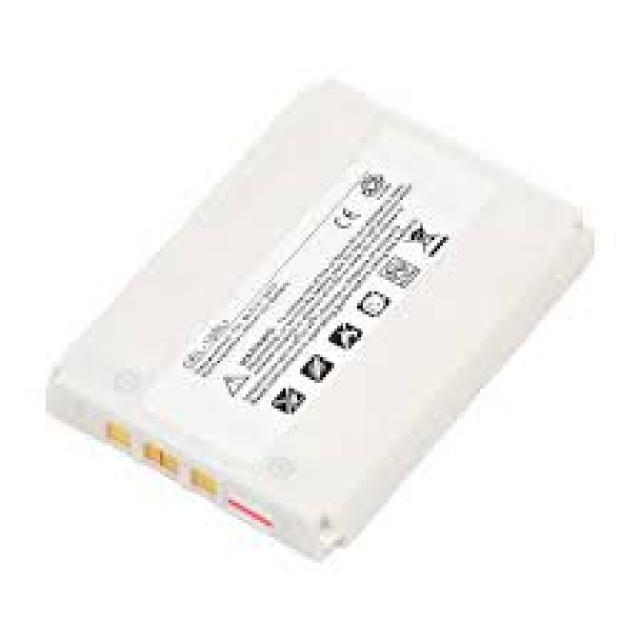non-organic waste: (49, 82, 603, 560)
